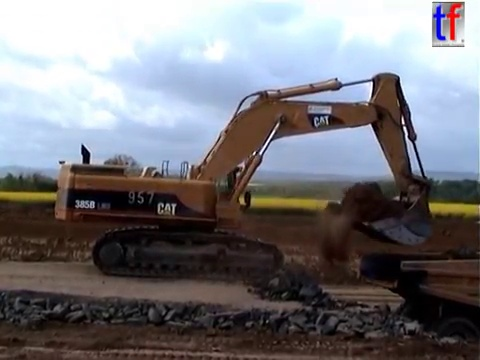excavator: (51, 69, 437, 284)
truck: (349, 249, 480, 360)
